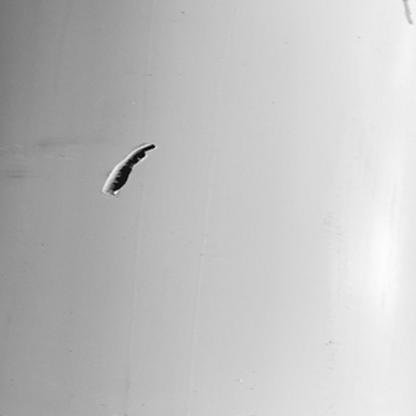kongdong: (99, 141, 162, 198)
